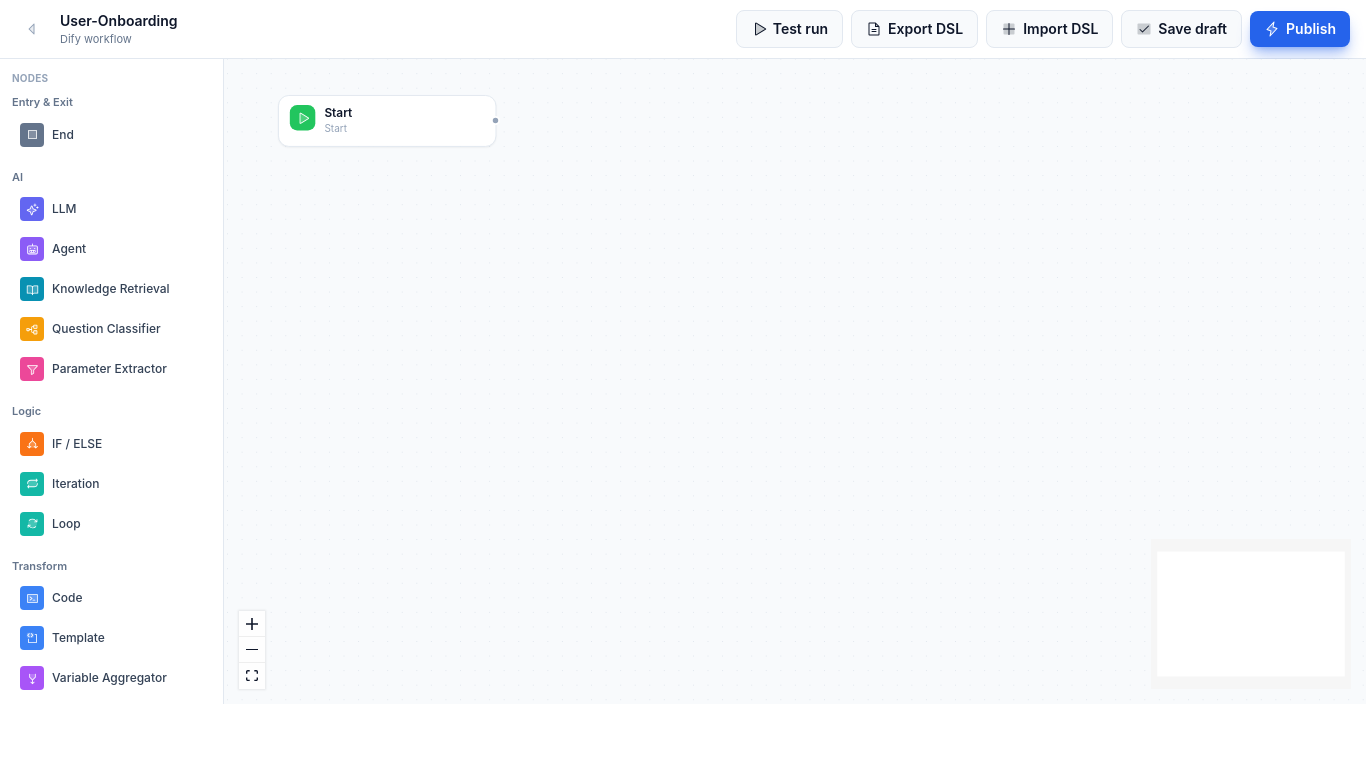
Test: Dify designer › reveals the branch handles an IF/ELSE node exposes
Expected: the text "User-Onboarding" is shown, [60,11,178,31]
Click the button "IF / ELSE" at (112, 444), box [12,426,211,462]
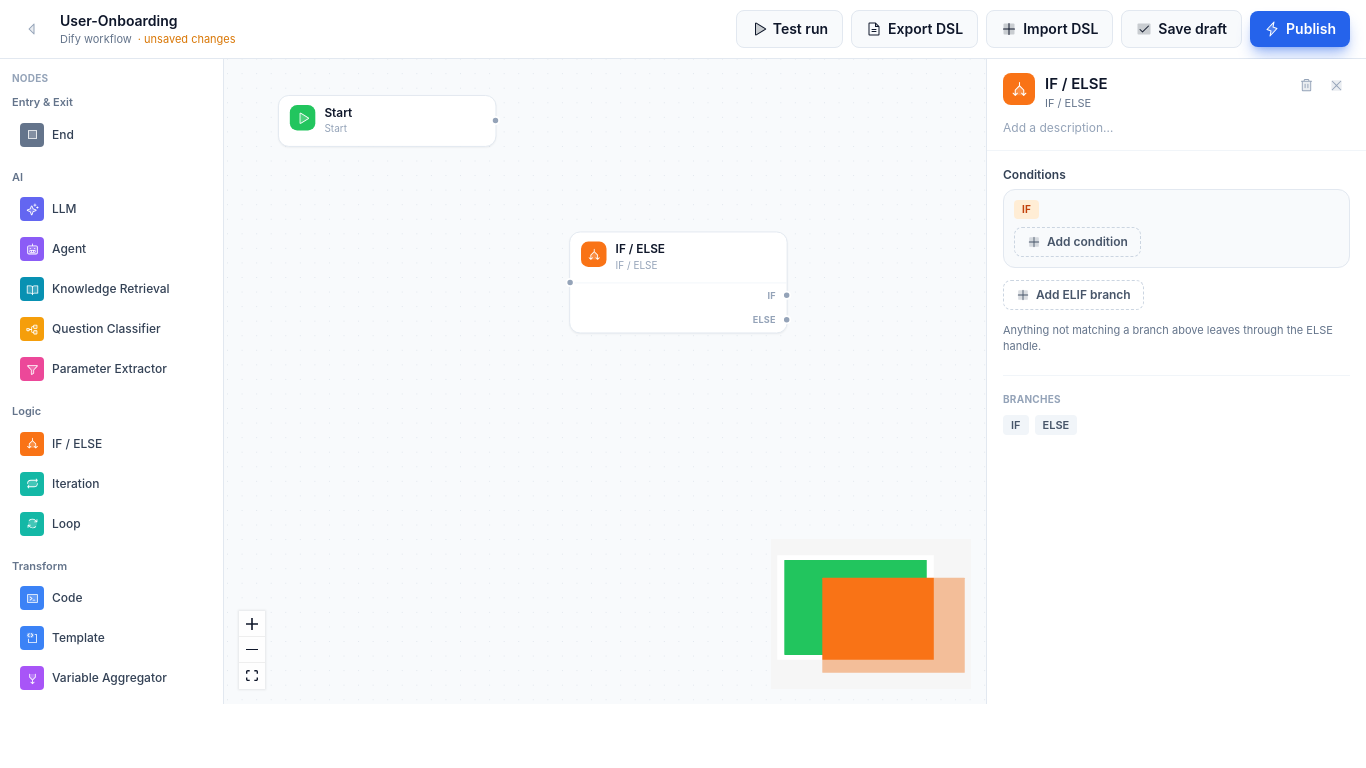
Expected: the text "Branches" is shown, [1003,392,1061,404]
Expected: the text "IF" below "Branches" is shown, [1011,418,1020,432]
Expected: the text "ELSE" below "Branches" is shown, [1042,418,1069,432]
